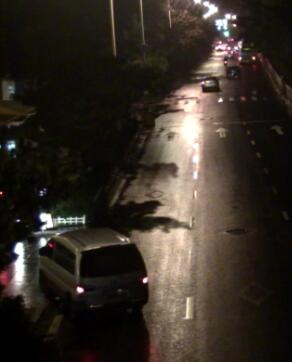car: (37, 224, 150, 314), (198, 76, 221, 91), (236, 48, 258, 63)
